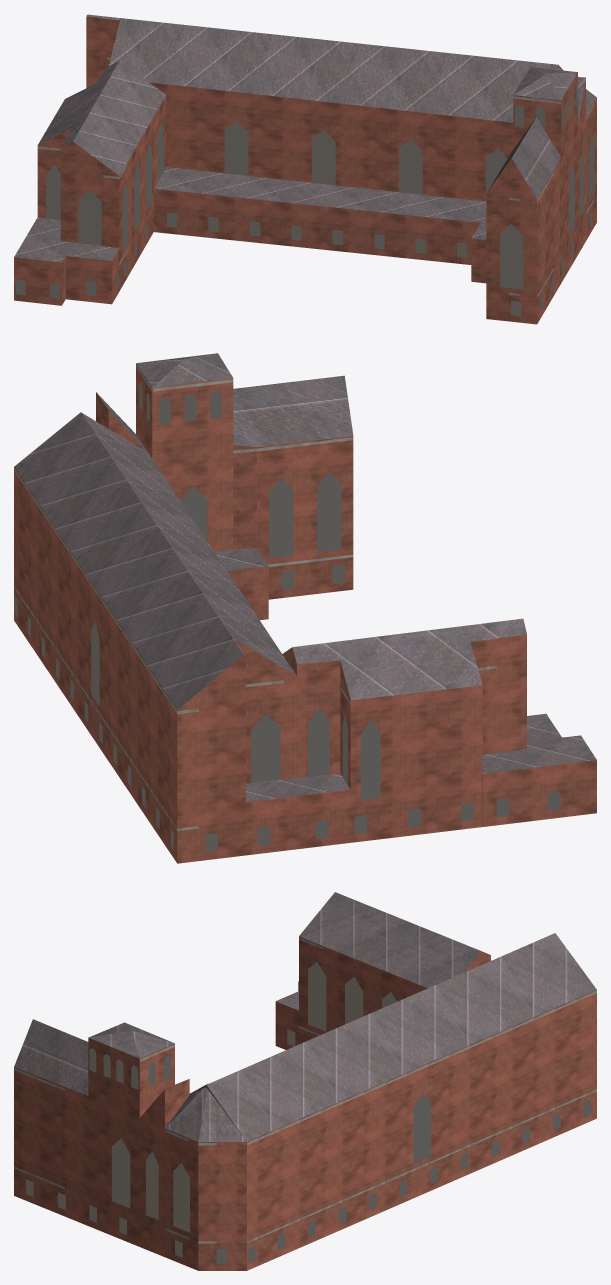
The model's file is couvent-saint-francois.glb.
3 renders of one model, top to bottom at view 1: azimuth 30°, elevation 25°; view 2: azimuth 150°, elevation 25°; view 3: azimuth 270°, elevation 25°, orthographic. The views are drawn at different scales.
Visible parts, largest first — view 1: terracotta, roof, window, trim; view 2: terracotta, roof, window, trim; view 3: terracotta, roof, window, trim.
Boxes of the visible parts, bbox=[...] form: terracotta: bbox=[14, 16, 596, 324]; roof: bbox=[14, 14, 596, 262]; window: bbox=[15, 83, 594, 315]; trim: bbox=[37, 57, 593, 297]; terracotta: bbox=[14, 364, 596, 863]; roof: bbox=[14, 353, 596, 802]; window: bbox=[14, 382, 559, 852]; trim: bbox=[14, 365, 497, 831]; terracotta: bbox=[14, 936, 596, 1270]; roof: bbox=[14, 892, 596, 1141]; window: bbox=[26, 962, 591, 1263]; trim: bbox=[14, 937, 596, 1243].
Size of the model in its own units: 56.27 by 20 by 53.28.
Materials: 4 (4 with a texture image).
